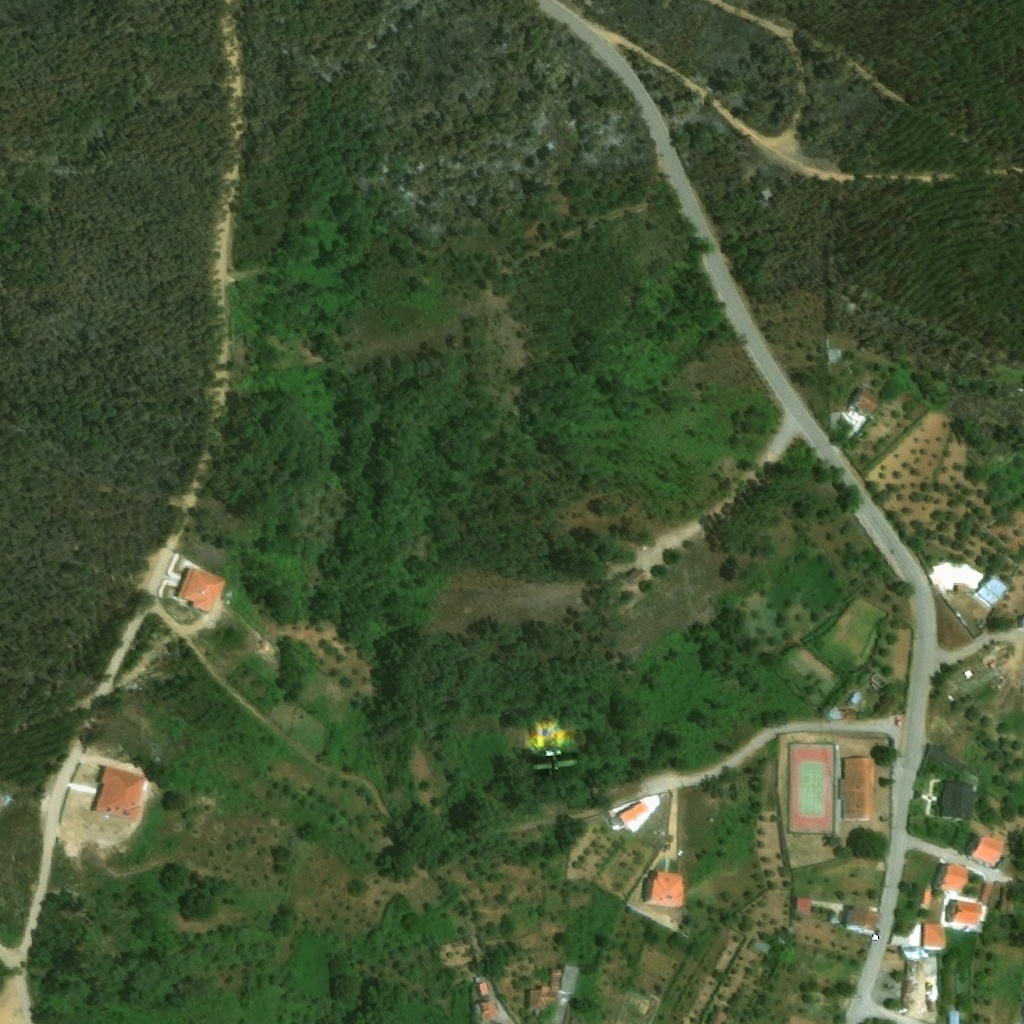0 no-damage: (92, 762, 147, 824), (173, 567, 225, 615), (838, 756, 873, 822), (644, 869, 686, 909), (525, 968, 561, 1011), (938, 782, 976, 822), (968, 832, 1010, 867), (927, 744, 966, 777), (844, 905, 878, 938), (934, 863, 968, 895), (975, 575, 1011, 605), (849, 388, 881, 417), (949, 902, 983, 929), (617, 800, 648, 825), (921, 923, 943, 952), (559, 966, 580, 995), (874, 694, 899, 717), (794, 898, 811, 918), (980, 879, 994, 903), (479, 1002, 494, 1023), (918, 888, 931, 911), (749, 941, 770, 955), (899, 947, 920, 961), (630, 568, 646, 583), (850, 691, 864, 706), (475, 982, 488, 996), (828, 349, 841, 362), (841, 710, 857, 720), (947, 1011, 960, 1023), (712, 1012, 726, 1023), (955, 584, 965, 593), (1001, 886, 1006, 903)
